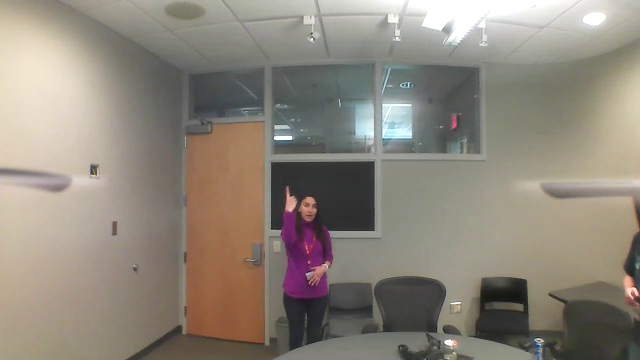up: (282, 183, 299, 218)
